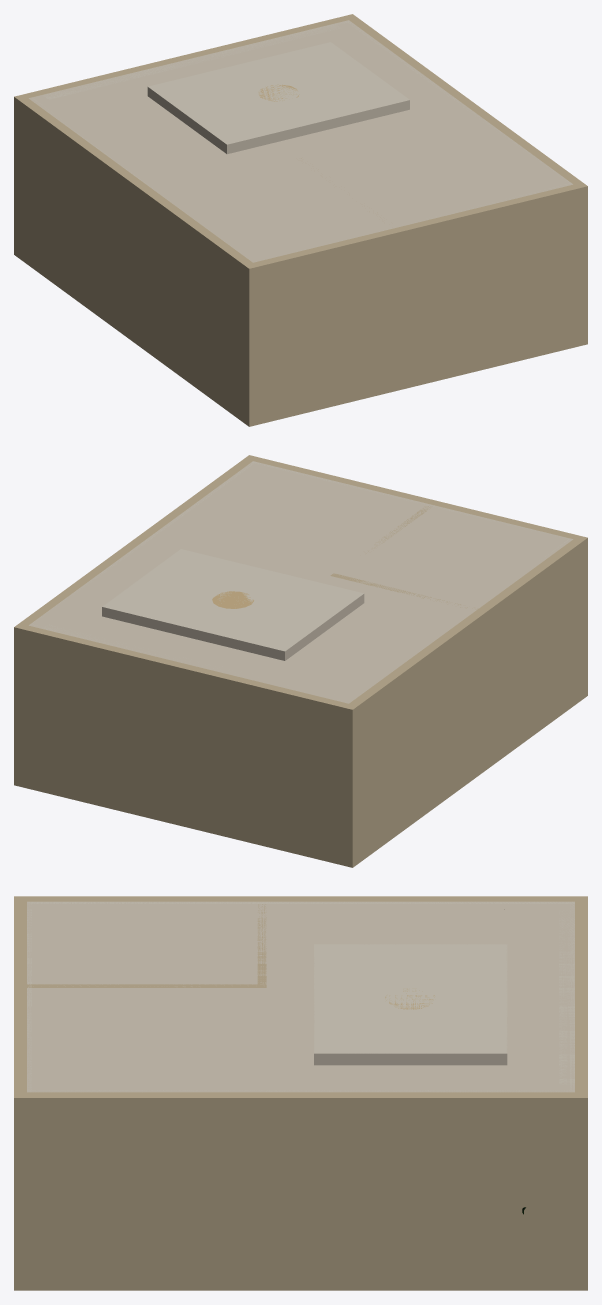
The model's file is int_room_deluxe.glb.
3 renders of one model, top to bottom at view 1: azimuth 30°, elevation 25°; view 2: azimuth 150°, elevation 25°; view 3: azimuth 270°, elevation 25°, orthographic. The views are drawn at different scales.
Parts seen in each view (by area): view 1: ROOM; view 2: ROOM; view 3: ROOM.
Boxes of the visible parts, left/top/right/bottom form: ROOM: left=14, top=14, right=587, bottom=426; ROOM: left=14, top=455, right=587, bottom=867; ROOM: left=14, top=896, right=587, bottom=1290.
Bounding box in the file's own units: 7.46 × 3.5 × 8.9.
